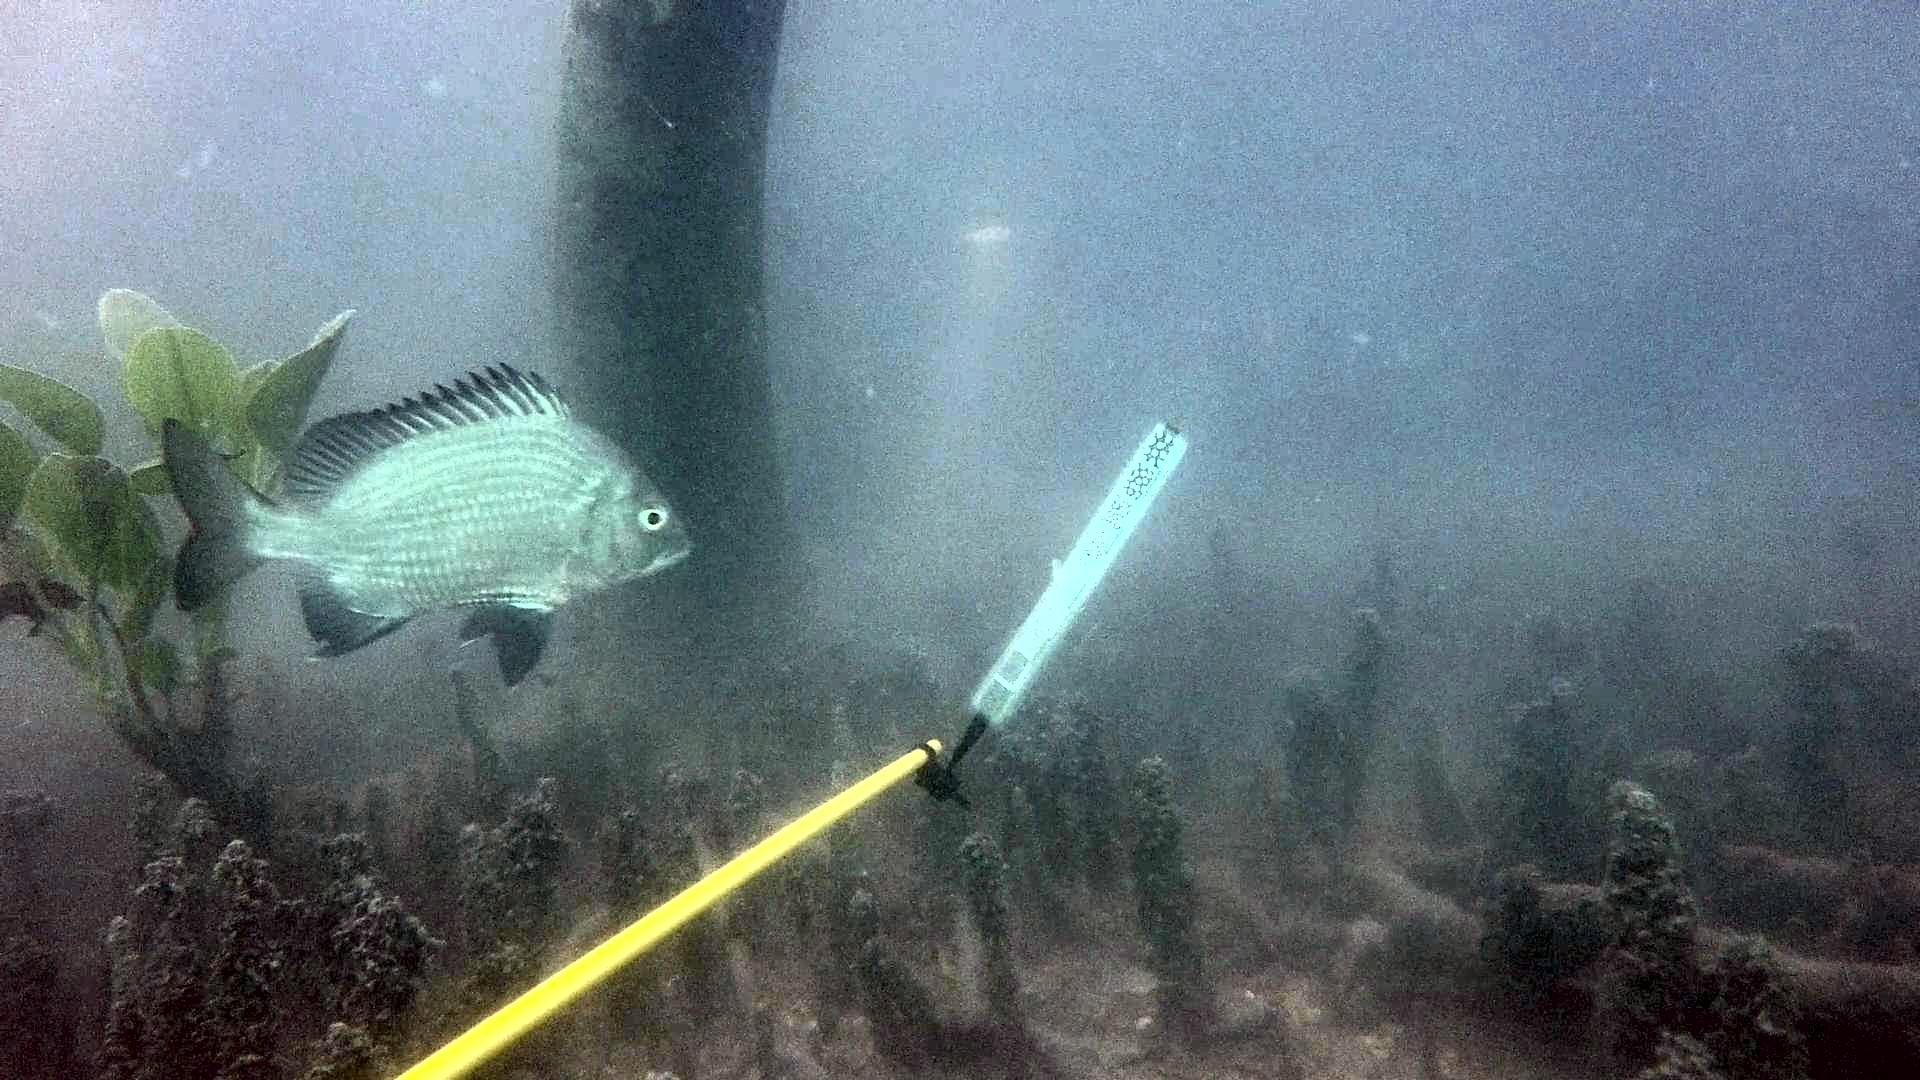acanthopagrus palmaris: (161, 353, 703, 704)
